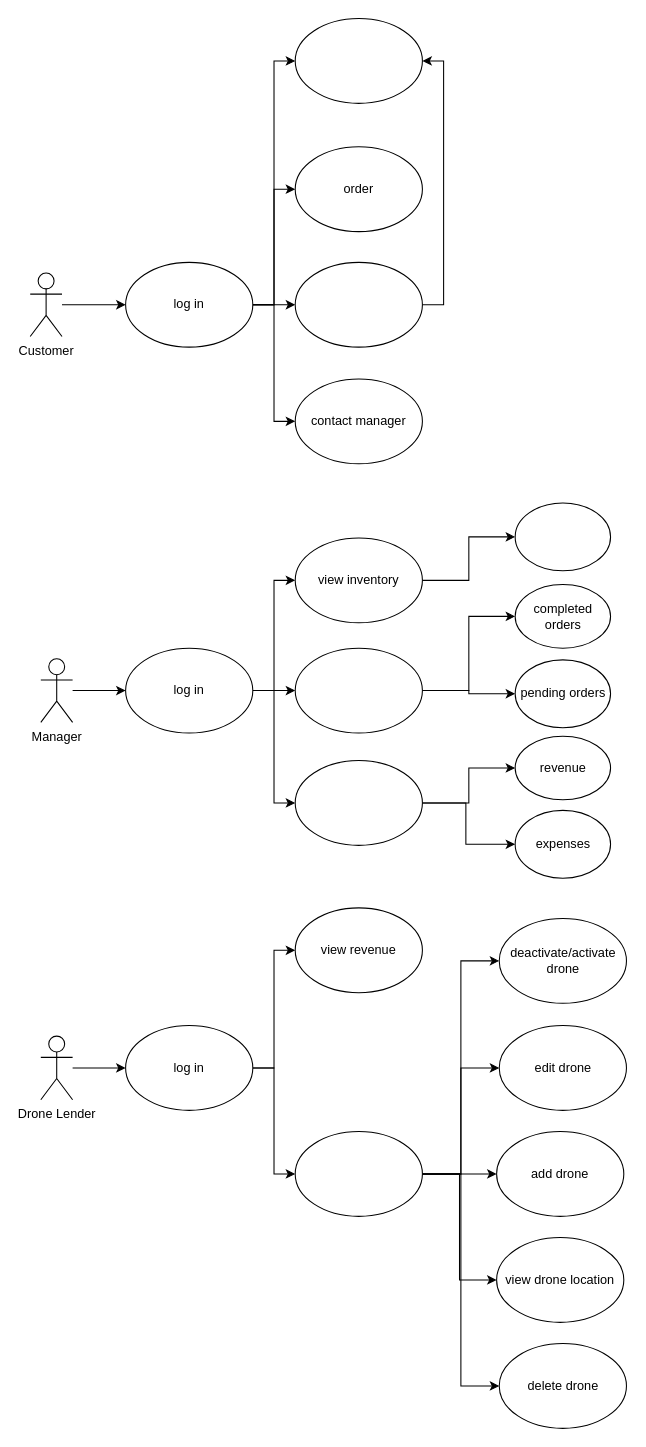
The diagram is 646 pixels wide and 1447 high, and some of its shapes have lost their labels. Each missing label, with the centre of its shape:
"finances" belongs at point 358,802.
"orders" belongs at point 358,690.
"track orders" belongs at point 358,60.
"update inventory" belongs at point 562,536.
"view drones" belongs at point 358,1173.
"view past orders" belongs at point 358,304.
